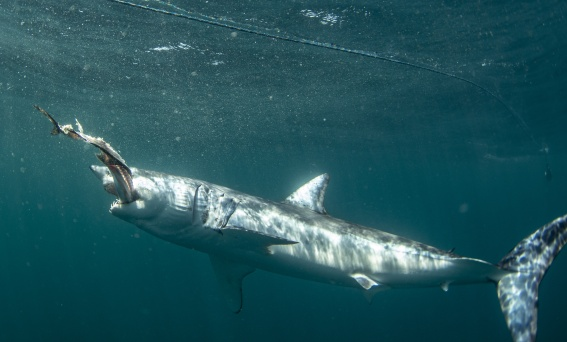Mako: (66, 158, 567, 342)
